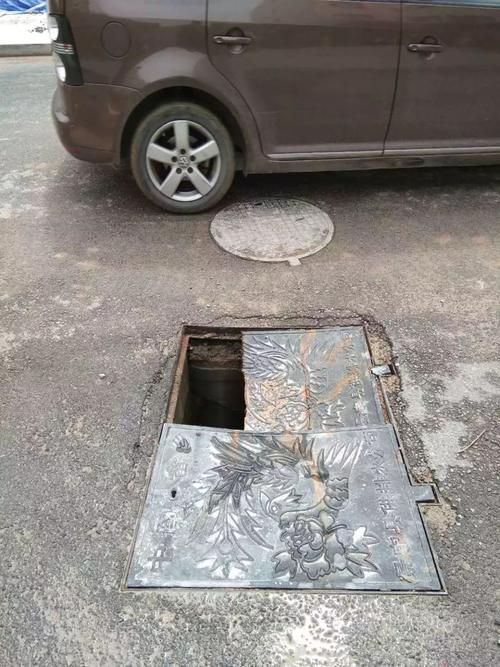broke: (109, 295, 465, 616)
